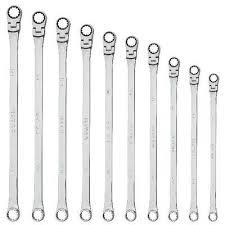wrench: (29, 9, 47, 222), (5, 3, 22, 221), (54, 15, 70, 221), (77, 21, 93, 221), (100, 29, 116, 222), (123, 34, 138, 221), (145, 41, 160, 221), (166, 55, 180, 221), (206, 71, 219, 221), (187, 64, 199, 221)
